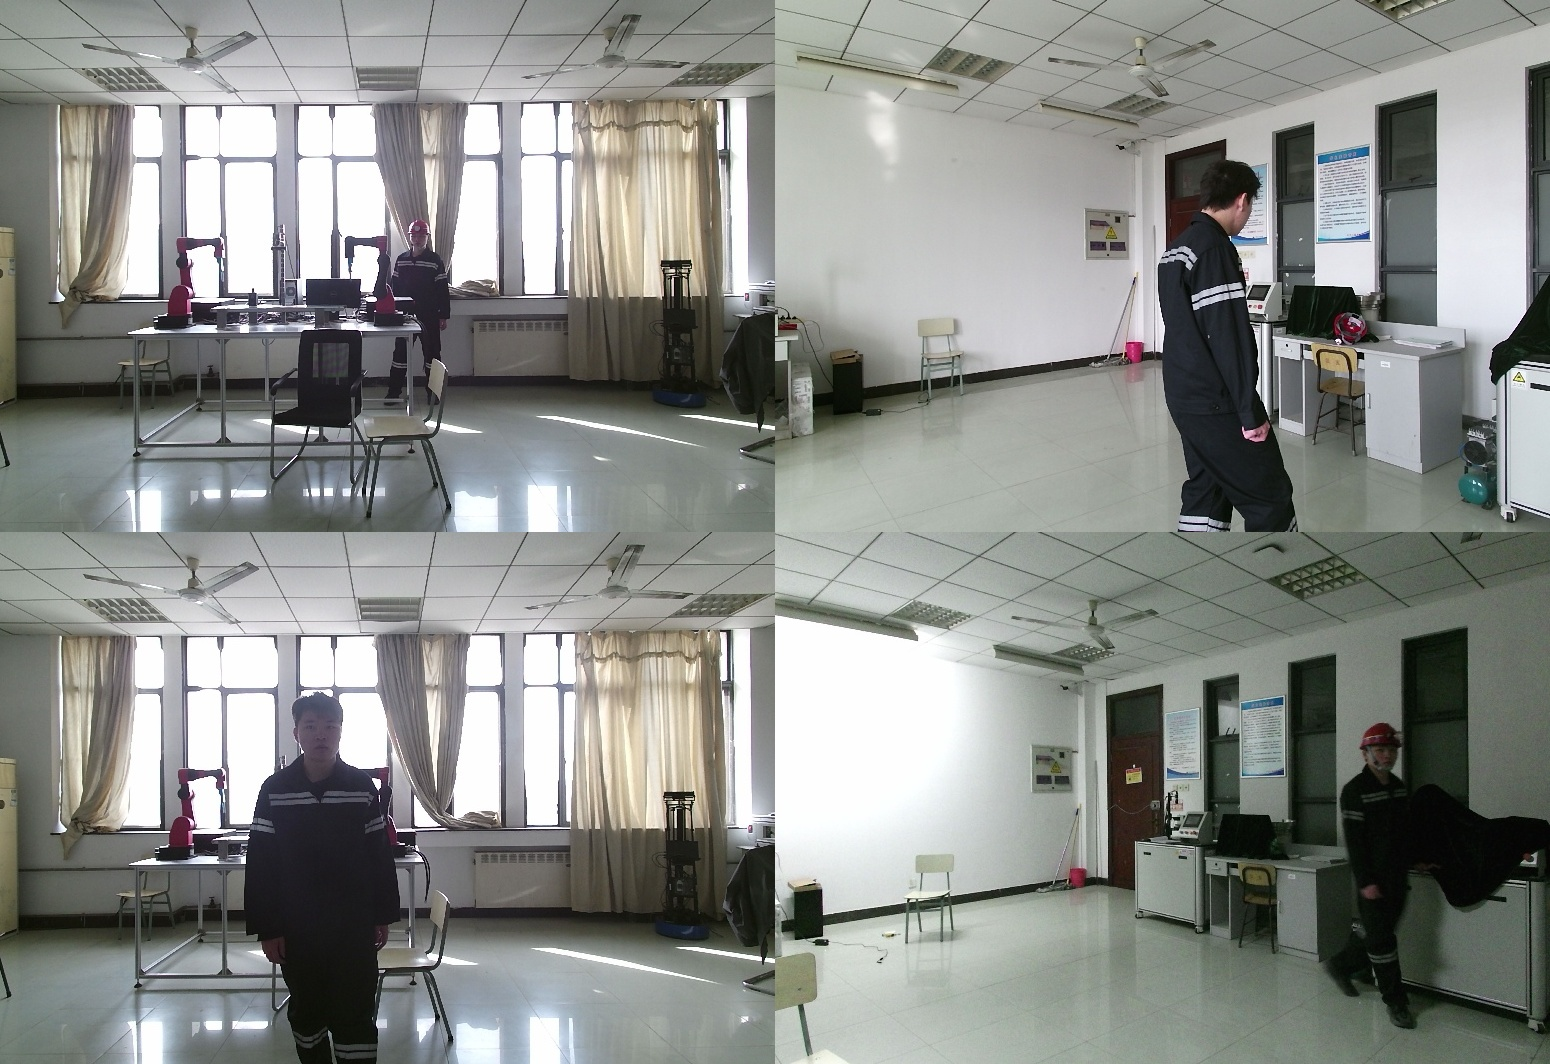person: (251, 697, 404, 1064), (1159, 156, 1287, 532), (1320, 726, 1431, 1032), (387, 220, 455, 420)
